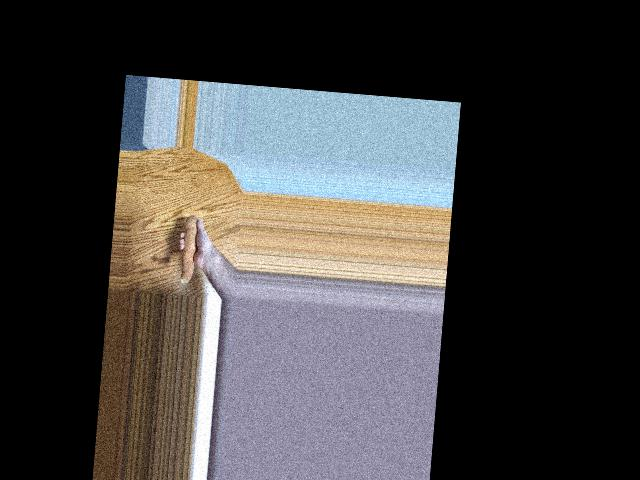sweet_potato: (179, 213, 206, 286)
